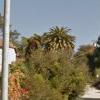Tree: (26, 21, 81, 79)
